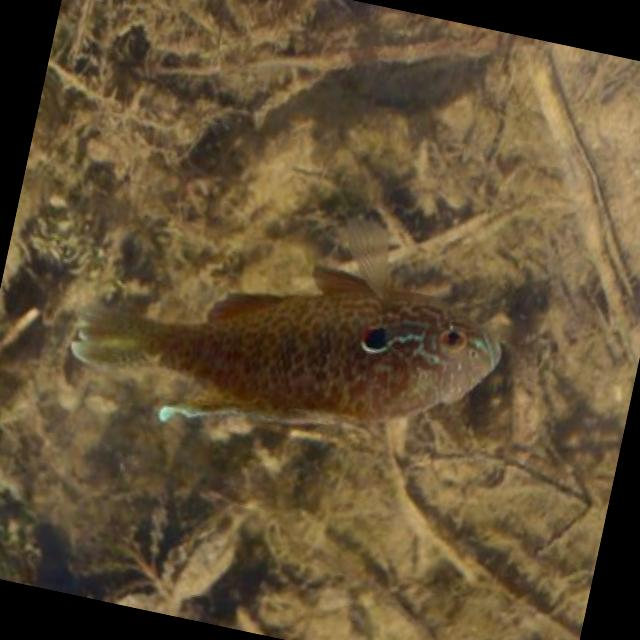Gunes Levregi: (58, 196, 558, 496)
